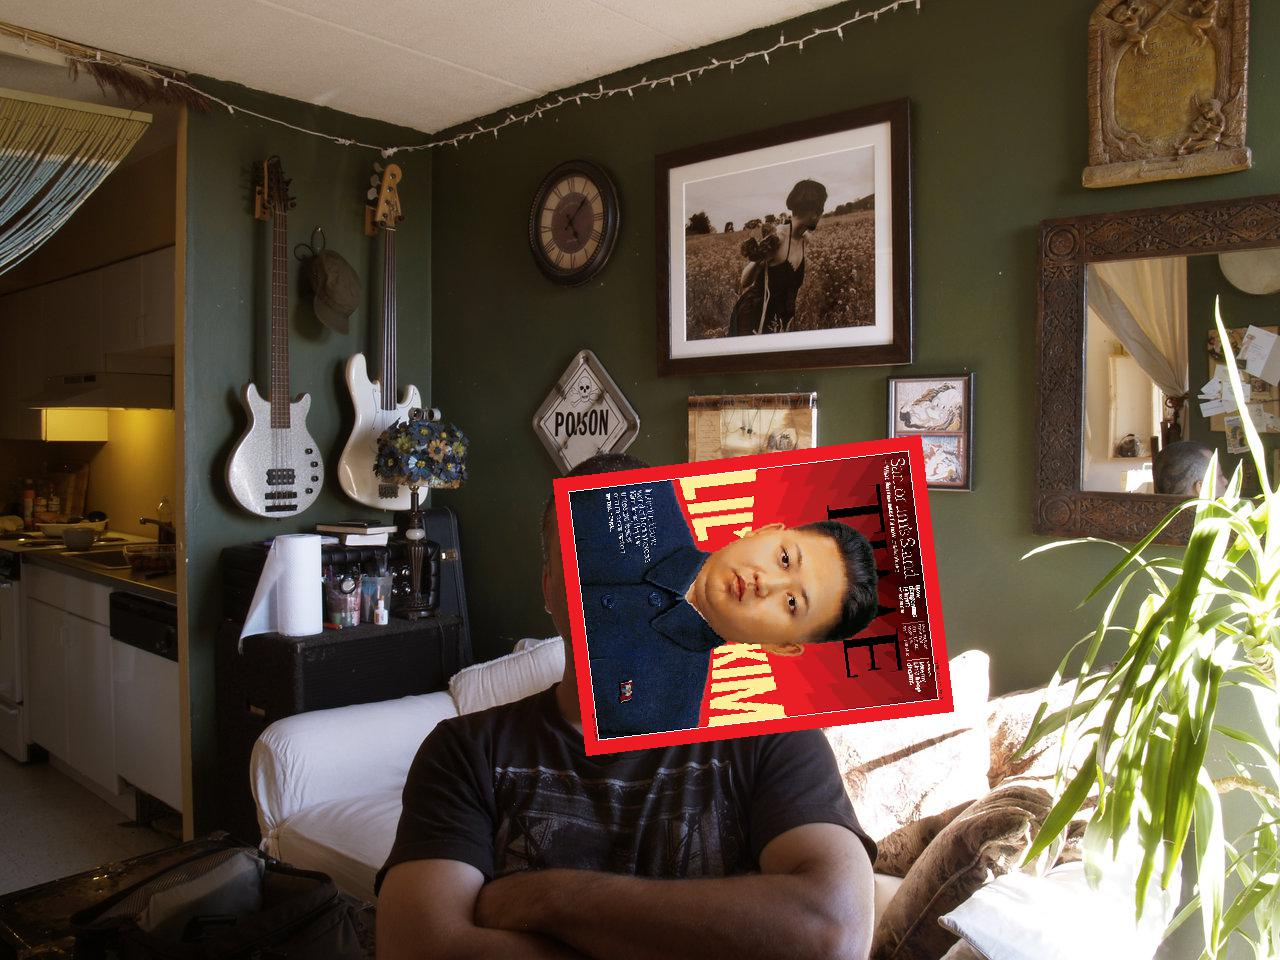times: (549, 432, 975, 756)
